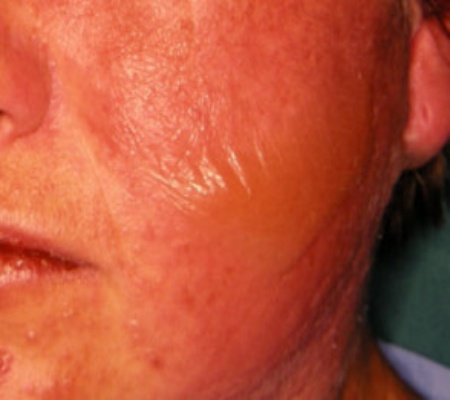SJS-TEN: (122, 66, 430, 325), (0, 229, 391, 399)
